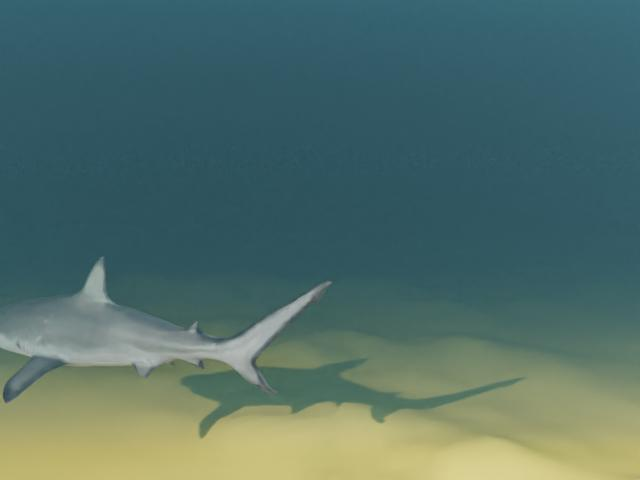Carribean Shark.001: (0, 256, 331, 403)
